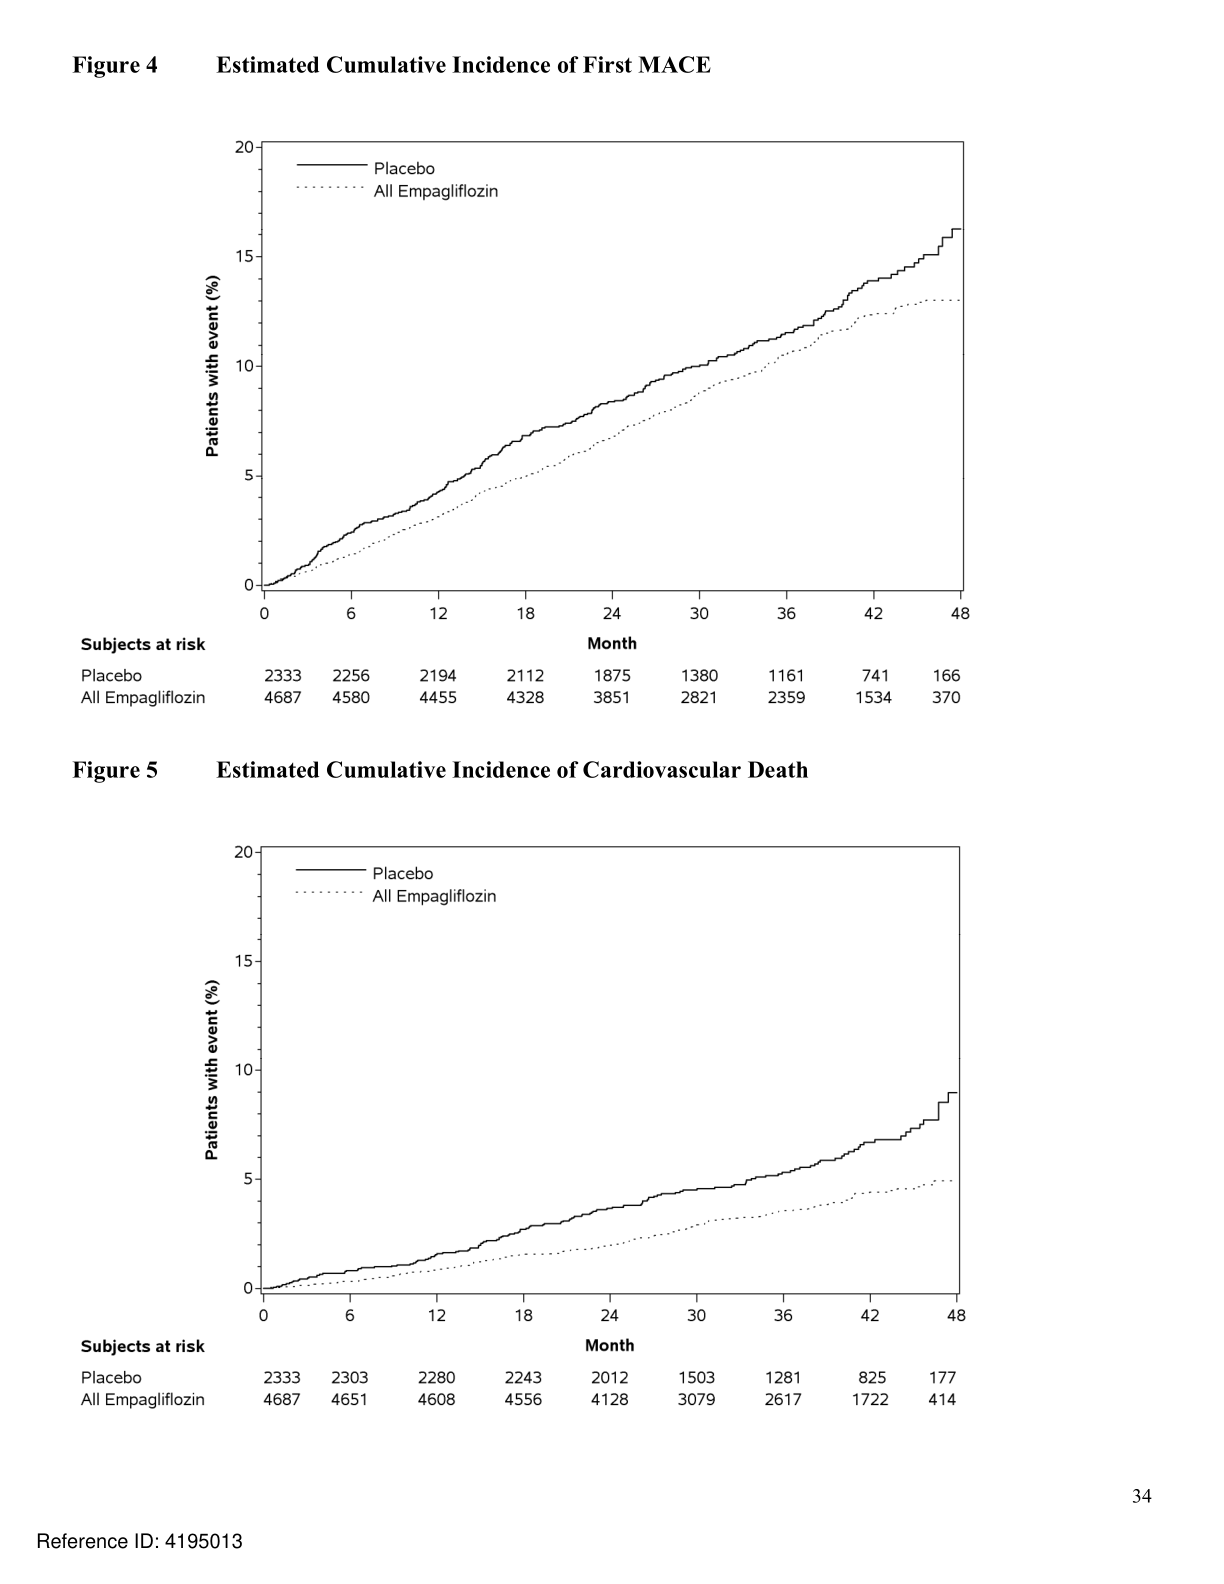nolines: (80, 1367, 960, 1409), (80, 667, 962, 708)
